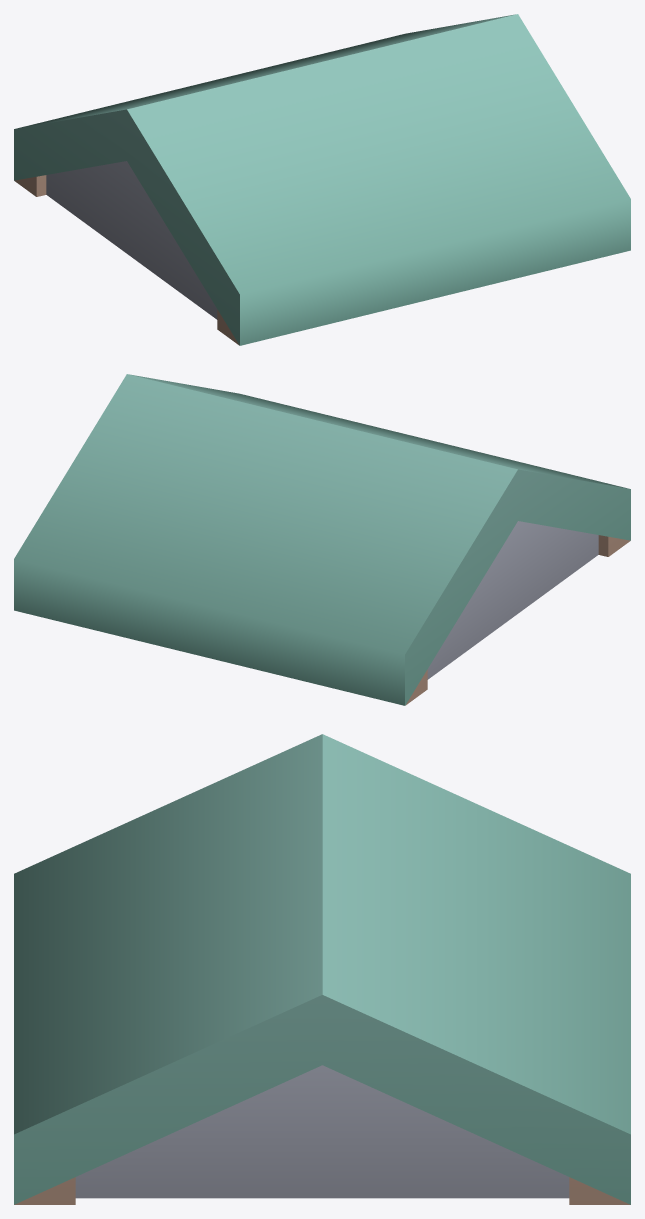
Rendered from roof-gable-top.glb.
3 views of the same model, one above another, from view 1: azimuth 30°, elevation 25°; view 2: azimuth 150°, elevation 25°; view 3: azimuth 270°, elevation 25° (orthographic). The views are drawn at different scales.
Visible parts, largest first — view 1: roof-gable-top; view 2: roof-gable-top; view 3: roof-gable-top.
Part boxes in pixels (left/top/right/bottom): roof-gable-top: left=14, top=14, right=630, bottom=345; roof-gable-top: left=14, top=374, right=630, bottom=705; roof-gable-top: left=14, top=734, right=630, bottom=1204.
Bounding box in the file's own units: 1 × 0.3759 × 1.
